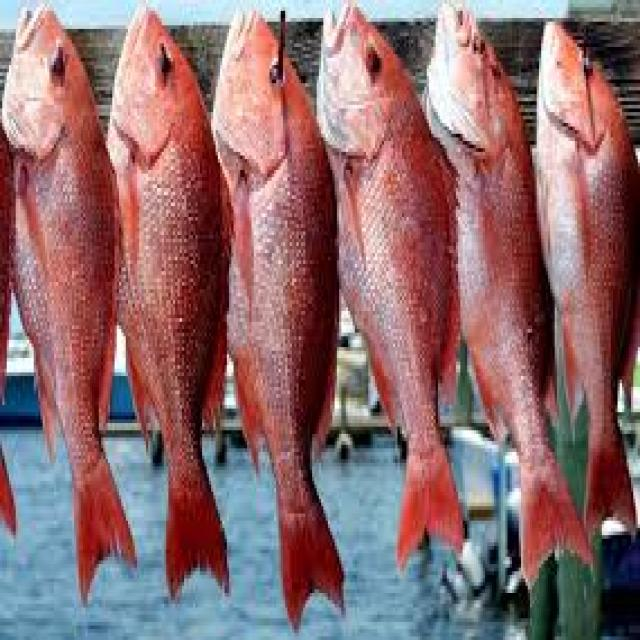northern-red-snapper: (424, 0, 611, 590), (315, 0, 498, 577), (213, 2, 367, 620), (4, 11, 153, 600), (111, 3, 247, 606), (533, 7, 640, 558)
